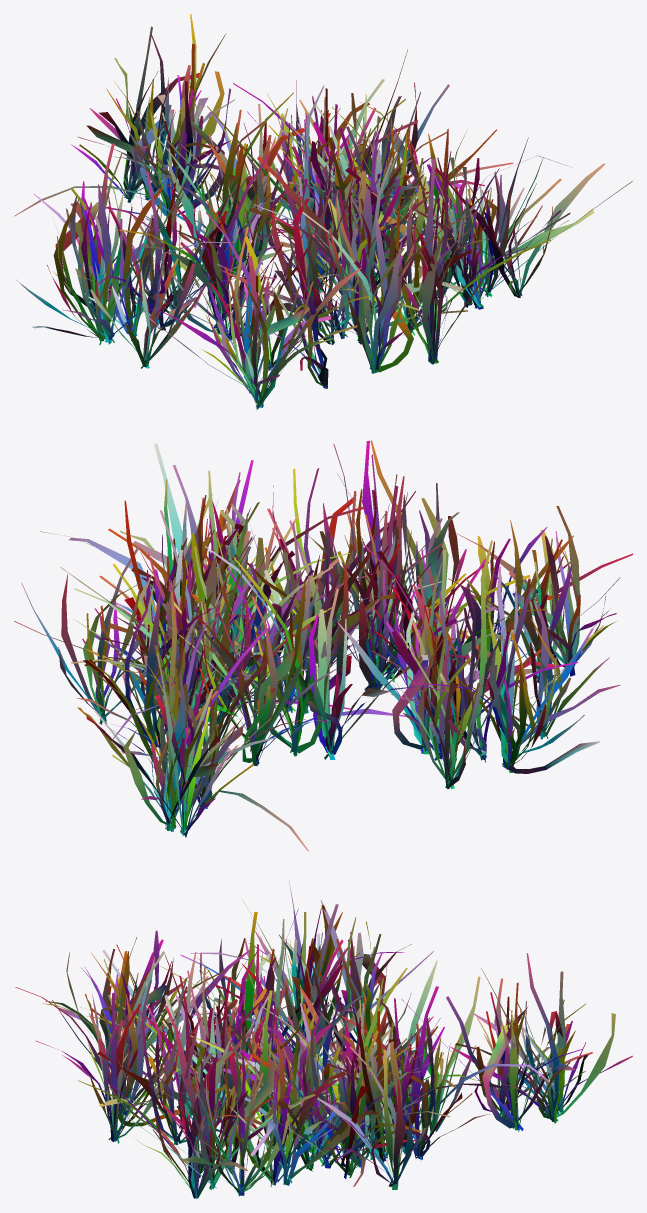
File: Grass_Clumps_qmBr2_High_qmBr2_VarA_LOD0.fbx
3 renders of one model, top to bottom at view 1: azimuth 30°, elevation 25°; view 2: azimuth 150°, elevation 25°; view 3: azimuth 270°, elevation 25°, orthographic. The views are drawn at different scales.
Visible parts, largest first — view 1: _8b87_VarA_LOD0; view 2: _8b87_VarA_LOD0; view 3: _8b87_VarA_LOD0.
Part boxes in pixels (left/top/right/bottom): _8b87_VarA_LOD0: left=14, top=14, right=632, bottom=409; _8b87_VarA_LOD0: left=14, top=440, right=632, bottom=851; _8b87_VarA_LOD0: left=15, top=880, right=632, bottom=1198.
Bounding box in the file's own units: 77.05 × 25.96 × 81.69.
